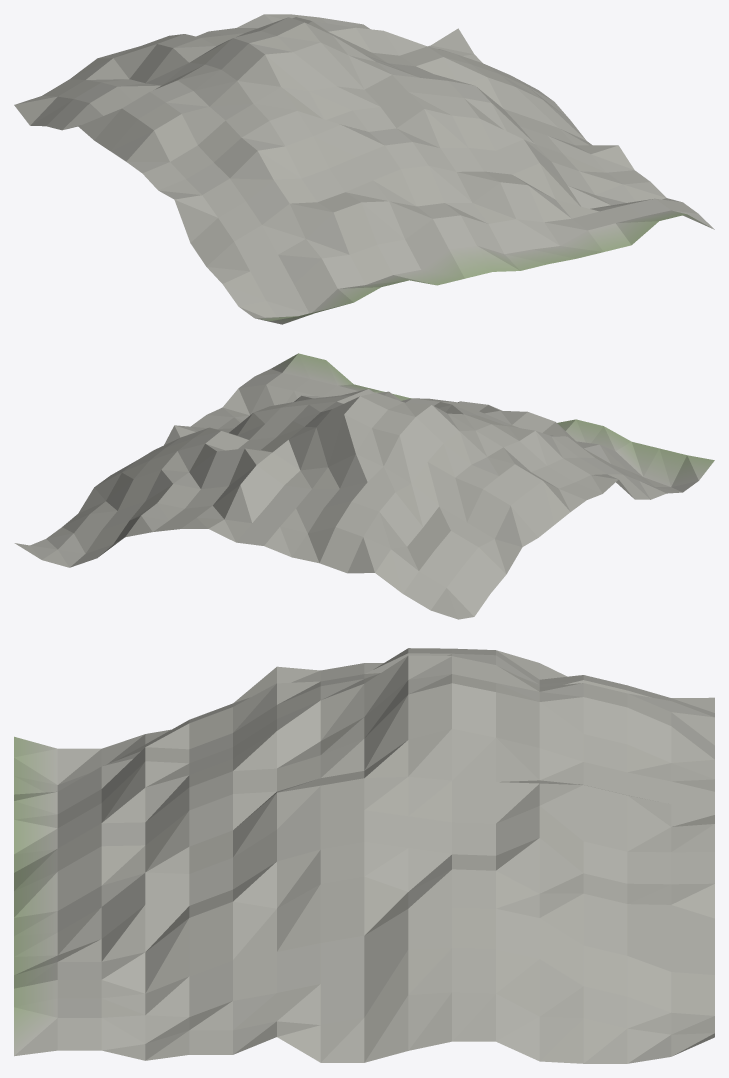
The picture shows the model from 3 angles, top to bottom: view 1: azimuth 30°, elevation 25°; view 2: azimuth 150°, elevation 25°; view 3: azimuth 270°, elevation 25°; orthographic projection. The views are drawn at different scales.
Size of the model in its own units: 32 by 10.78 by 32.
